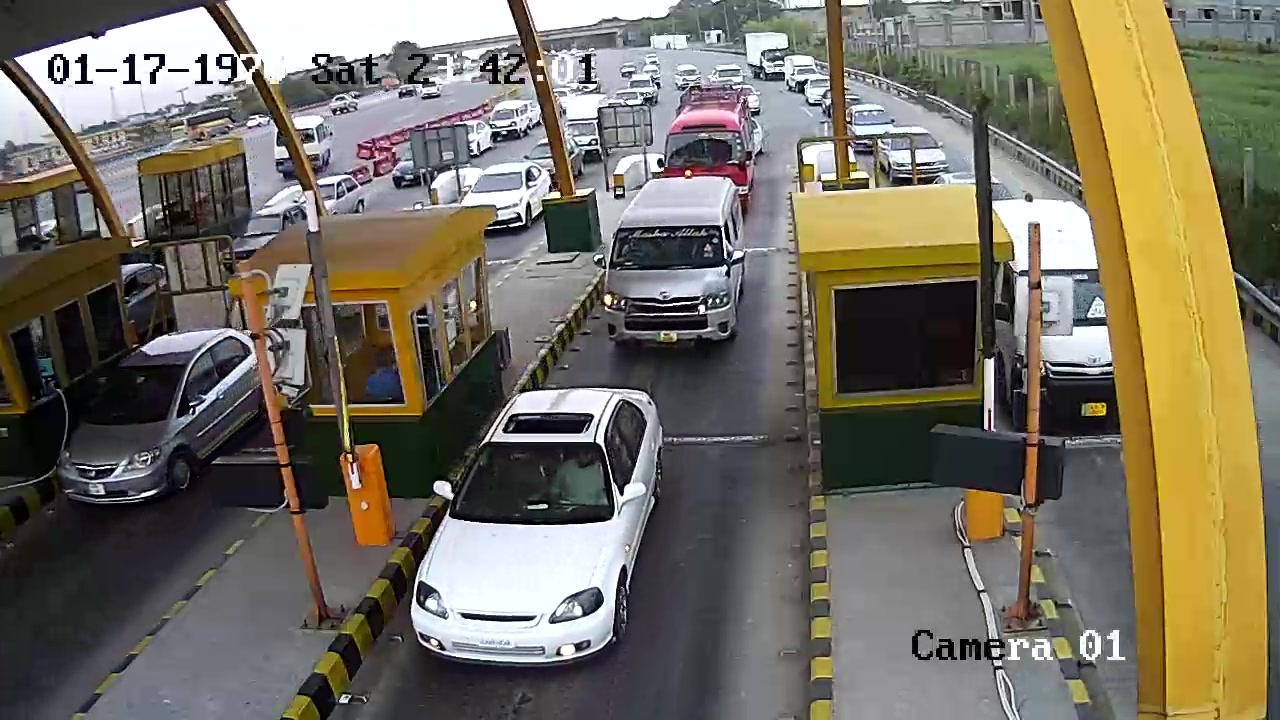F1: (413, 373, 673, 679)
F2: (603, 165, 754, 355)
